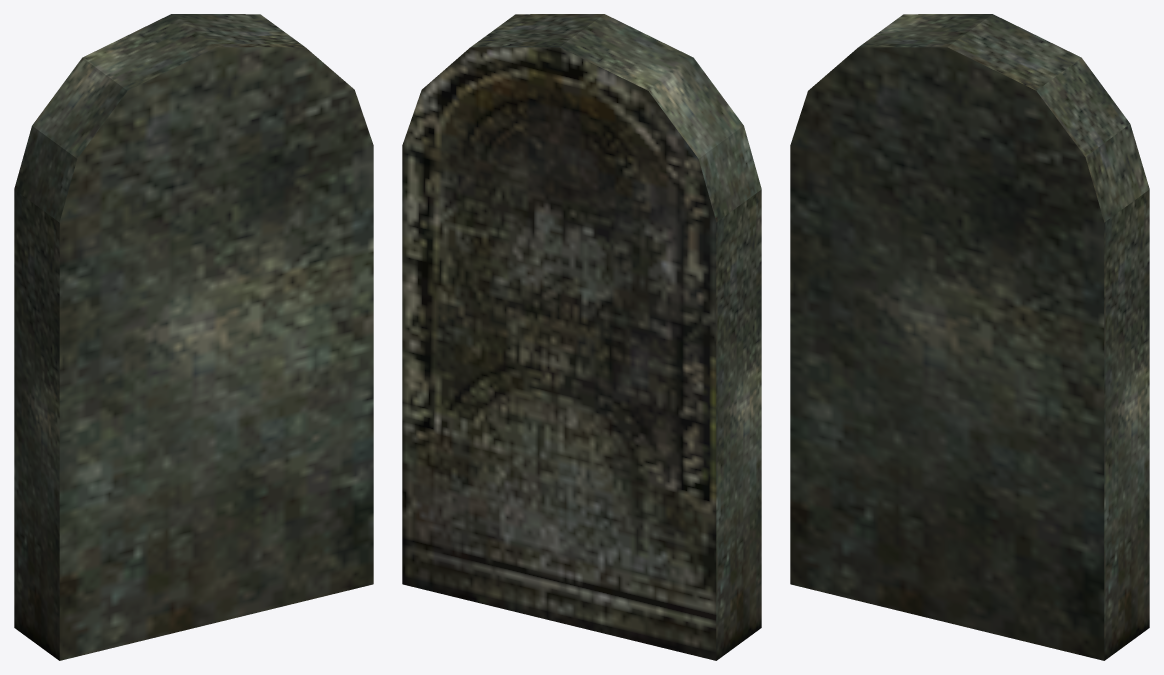
The model's file is tombstone_sm_08.fbx.
3 renders of one model, left to right at view 1: azimuth 30°, elevation 25°; view 2: azimuth 150°, elevation 25°; view 3: azimuth 330°, elevation 25°, orthographic.
Visible parts, largest first — view 1: mesh_0; view 2: mesh_0; view 3: mesh_0.
Part boxes in pixels (x1=…): mesh_0: x1=14, y1=14, x2=373, y2=660; mesh_0: x1=402, y1=14, x2=761, y2=660; mesh_0: x1=790, y1=14, x2=1149, y2=660.
Size of the model in its own units: 60 by 105 by 15.
1 material, 1 textured.
